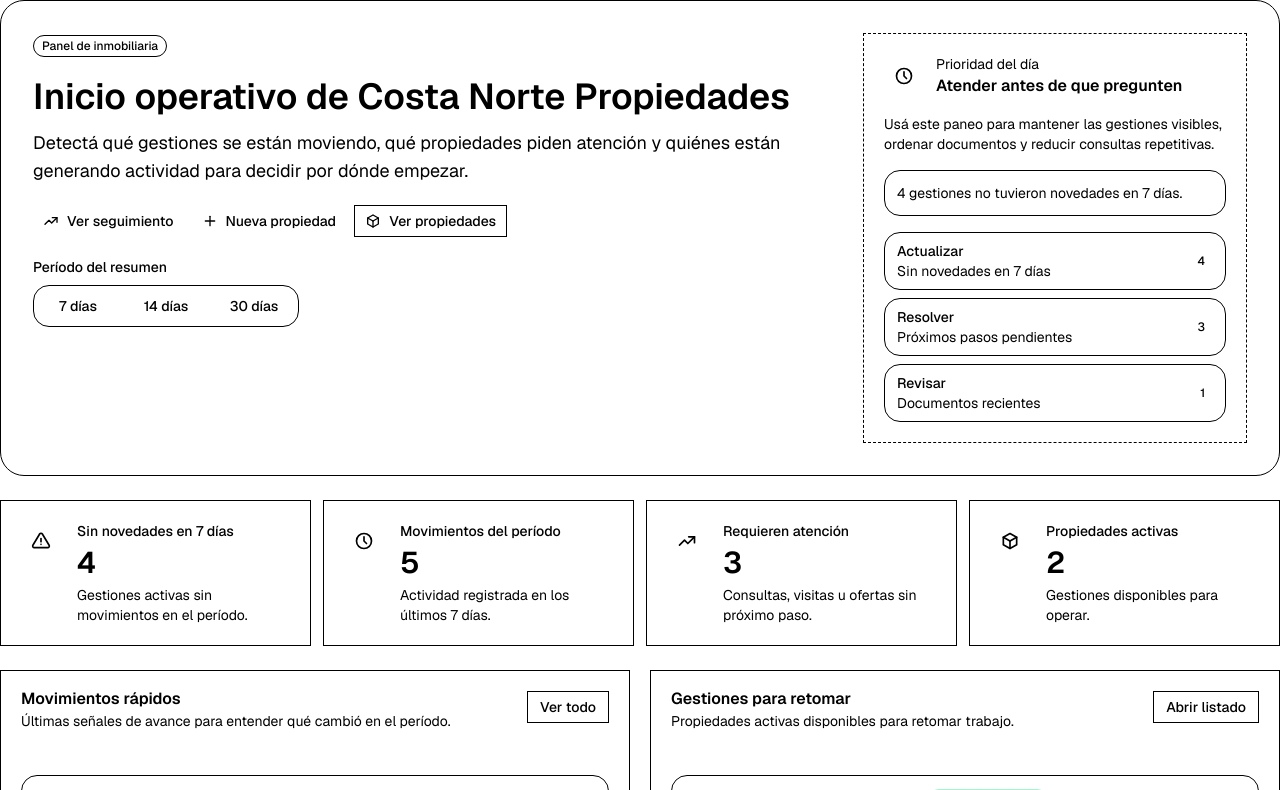
Test: OperationalHomepage › updates the summary range selector for 14 and 30 days
Click the button "14 días".
click(166, 306)  # box 126,290 -> 206,322
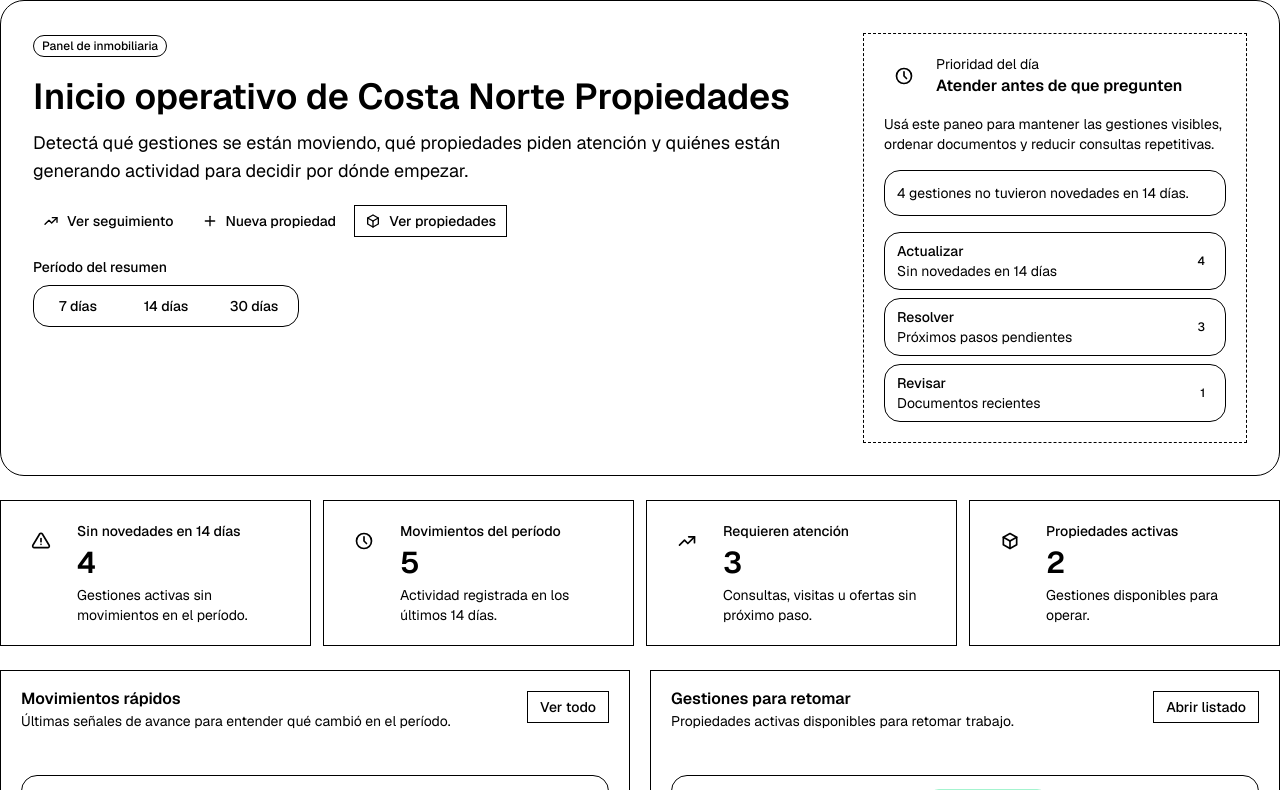
Click the button "30 días".
click(254, 306)  # box 214,290 -> 294,322
(page scrolled)
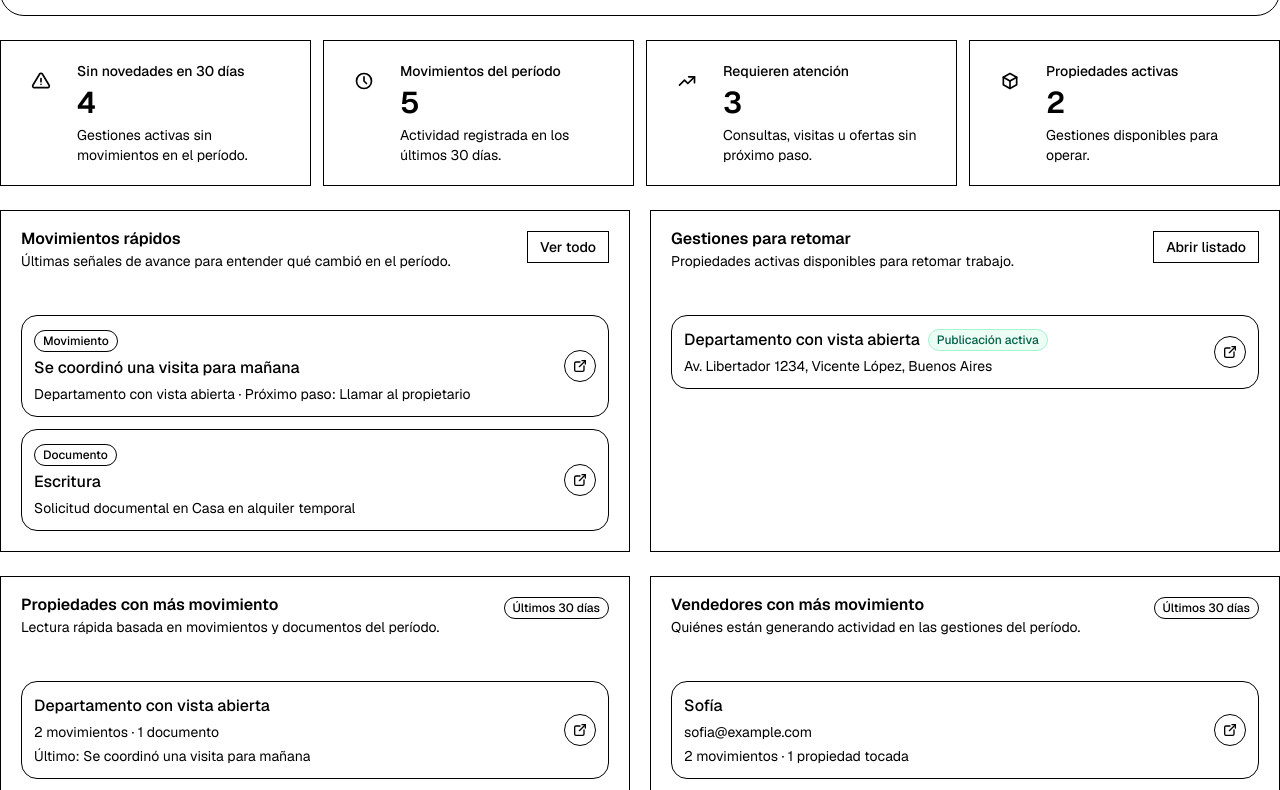
Check: the text "Últimos 30 días" in the row of "Propiedades con más movimiento" is shown, box 504,597 -> 609,619
